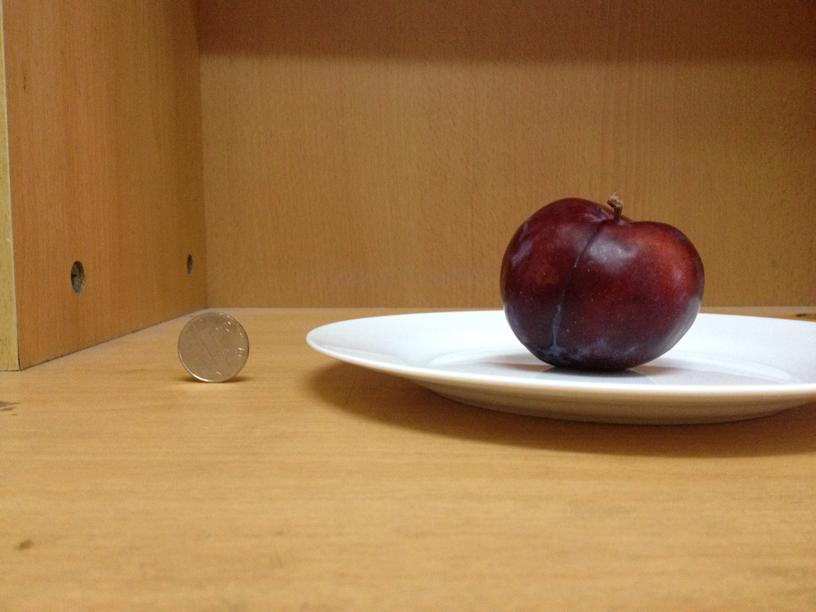coin: (173, 314, 251, 381)
plum: (497, 198, 702, 375)
